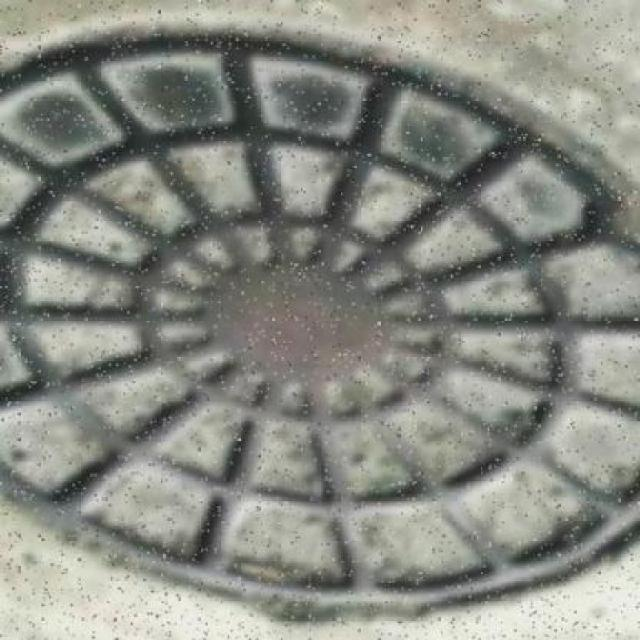Manhole: (2, 29, 640, 628)
